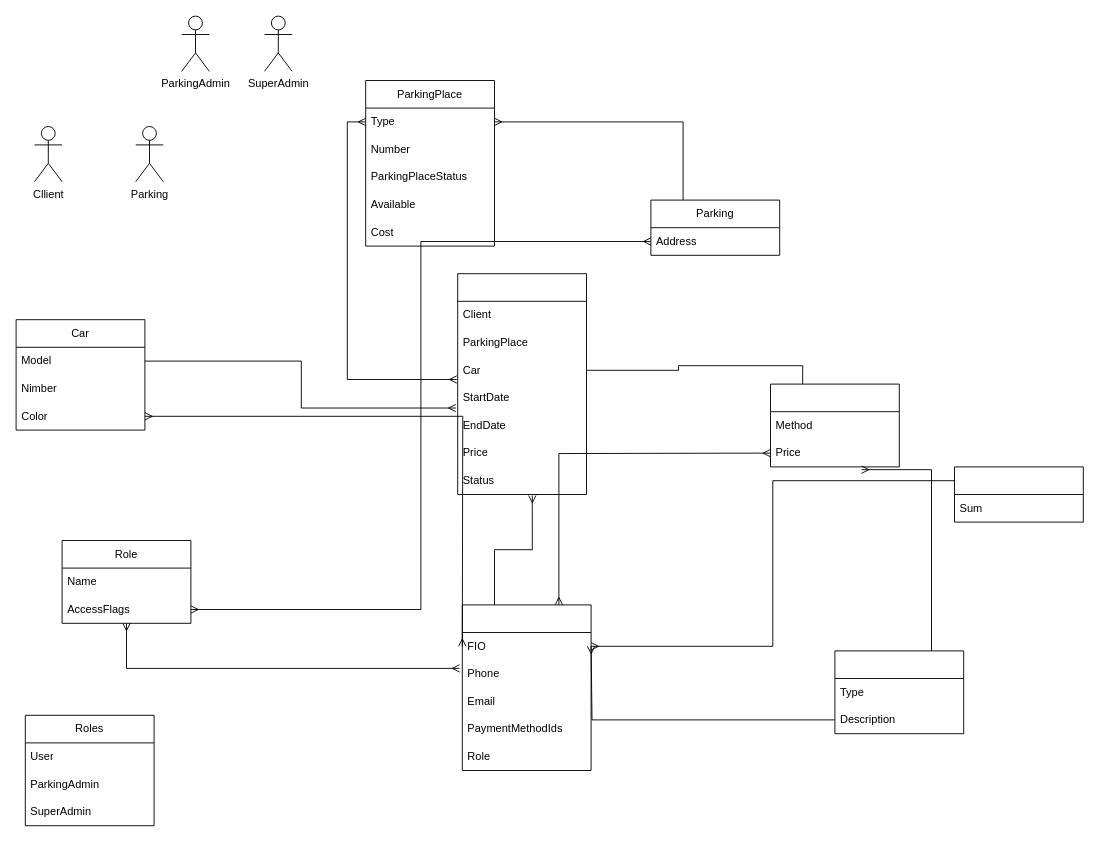
This 1099x842 diagram has some shape labels left out. The shapes that lost their labels are listed below. From the top down, each one's box as (x1, y1, x2, y2) in pixels, then its label:
(457, 273, 586, 494): Booking
(770, 383, 899, 467): Payment
(954, 466, 1083, 522): Wallet
(461, 604, 591, 770): Person
(834, 650, 964, 734): PaymentMethod
